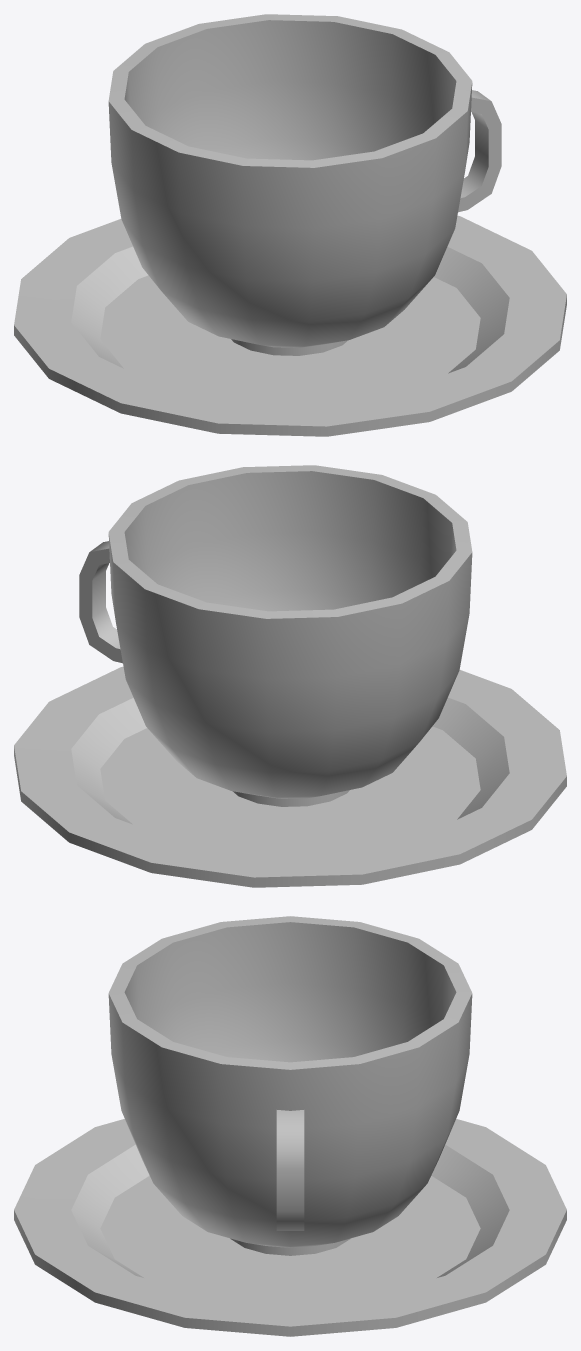
File: EN_CupSaucer.001_V01.fbx
The picture shows the model from 3 angles, top to bottom: view 1: azimuth 30°, elevation 25°; view 2: azimuth 150°, elevation 25°; view 3: azimuth 270°, elevation 25°; orthographic projection.
Visible parts, largest first — view 1: GEO_Cup.001, GEO_Saucer.001; view 2: GEO_Cup.001, GEO_Saucer.001; view 3: GEO_Cup.001, GEO_Saucer.001.
Boxes of the visible parts, left/top/right/bottom form: GEO_Cup.001: left=108, top=14, right=501, bottom=355; GEO_Saucer.001: left=14, top=215, right=566, bottom=436; GEO_Cup.001: left=79, top=465, right=472, bottom=806; GEO_Saucer.001: left=14, top=666, right=566, bottom=887; GEO_Cup.001: left=108, top=916, right=472, bottom=1255; GEO_Saucer.001: left=14, top=1119, right=566, bottom=1336.
Size of the model in its own units: 18.39 by 9.02 by 18.39.
1 material, 1 textured.
